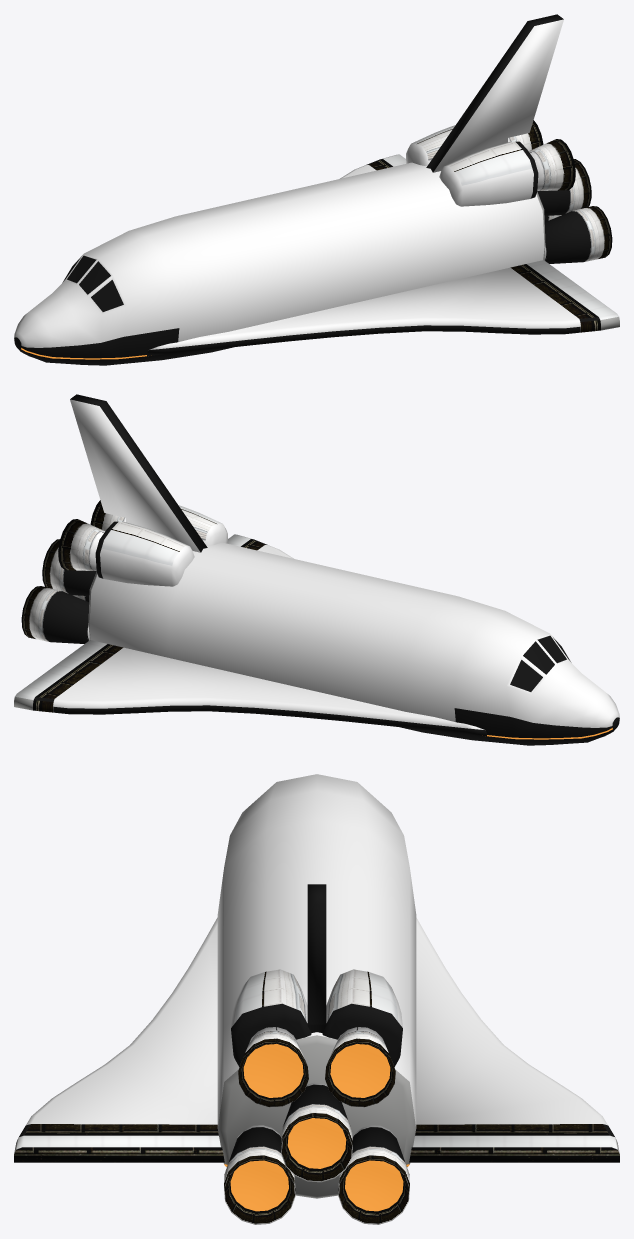
File: alantis.glb
3 views of the same model, one above another, from view 1: azimuth 30°, elevation 25°; view 2: azimuth 150°, elevation 25°; view 3: azimuth 270°, elevation 25° (orthographic). The views are drawn at different scales.
Parts seen in each view (by area): view 1: Atlantis; view 2: Atlantis; view 3: Atlantis.
Boxes of the visible parts, x1,y1,x2,y2 form: Atlantis: [14, 14, 619, 365]; Atlantis: [14, 394, 619, 745]; Atlantis: [14, 774, 619, 1224].
Bounding box in the file's own units: 14.14 × 5.86 × 9.75.
Materials: 2 (1 with a texture image).
